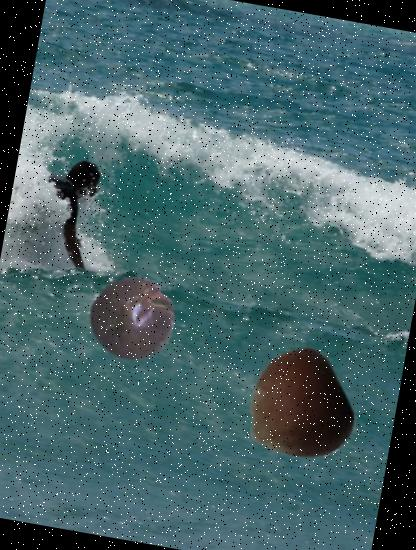Nut: (231, 344, 361, 474)
Passion: (82, 266, 186, 369)
